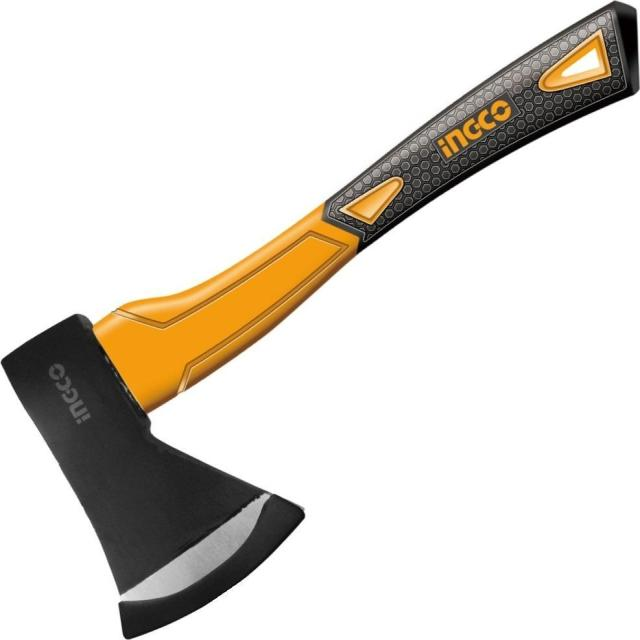Kapak: (4, 3, 640, 633)
